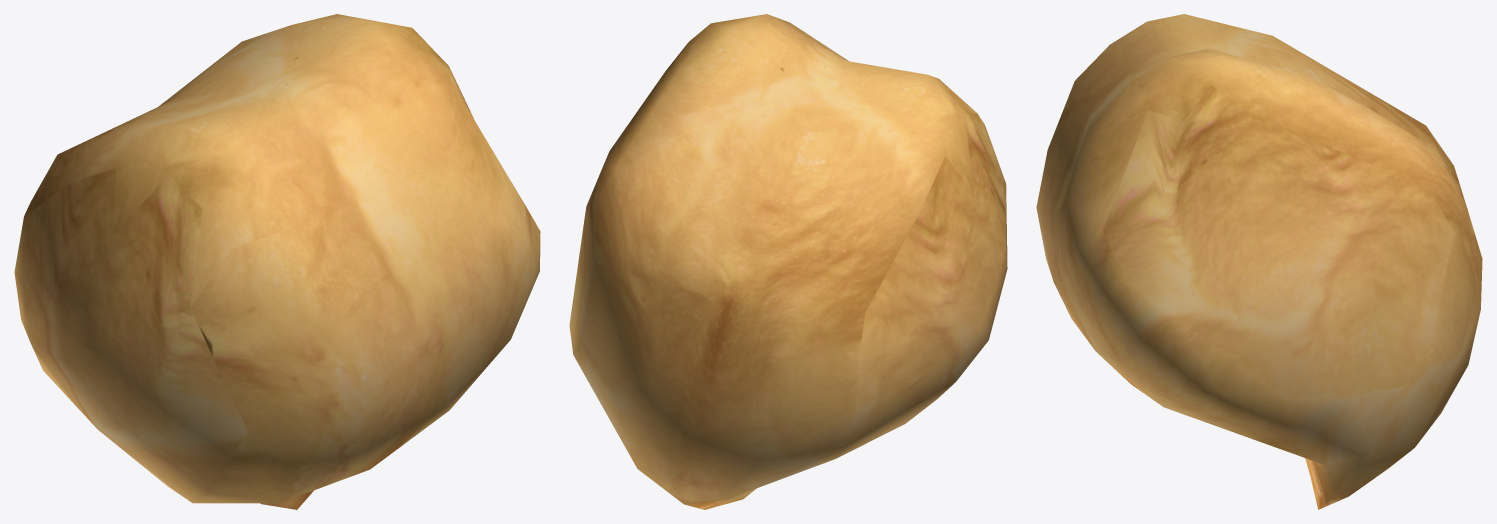
The model's file is Chick_S.fbx.
The picture shows the model from 3 angles, left to right: view 1: azimuth 30°, elevation 25°; view 2: azimuth 150°, elevation 25°; view 3: azimuth 270°, elevation 25°; orthographic projection. The views are drawn at different scales.
Parts seen in each view (by area): view 1: Chickpea004.001; view 2: Chickpea004.001; view 3: Chickpea004.001.
Boxes of the visible parts, <box> form: Chickpea004.001: <box>14,14,540,509</box>; Chickpea004.001: <box>569,14,1007,509</box>; Chickpea004.001: <box>1036,14,1482,509</box>.
Size of the model in its own units: 54.8 by 63.37 by 56.13.
